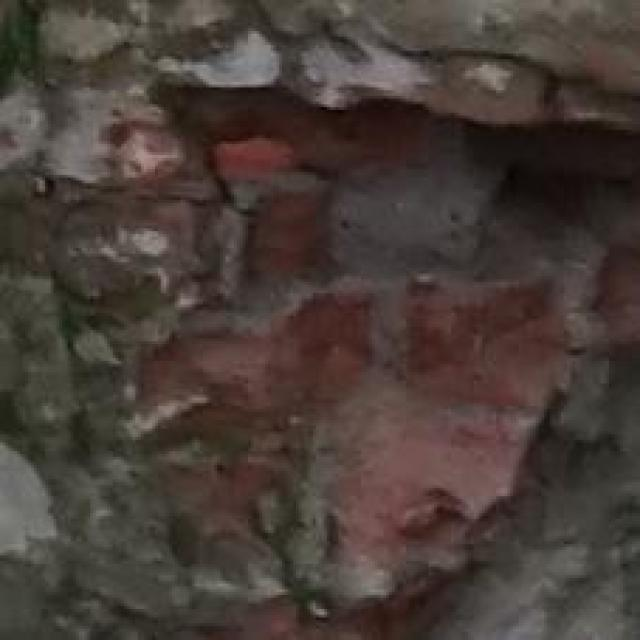Crack: (135, 71, 622, 640)
